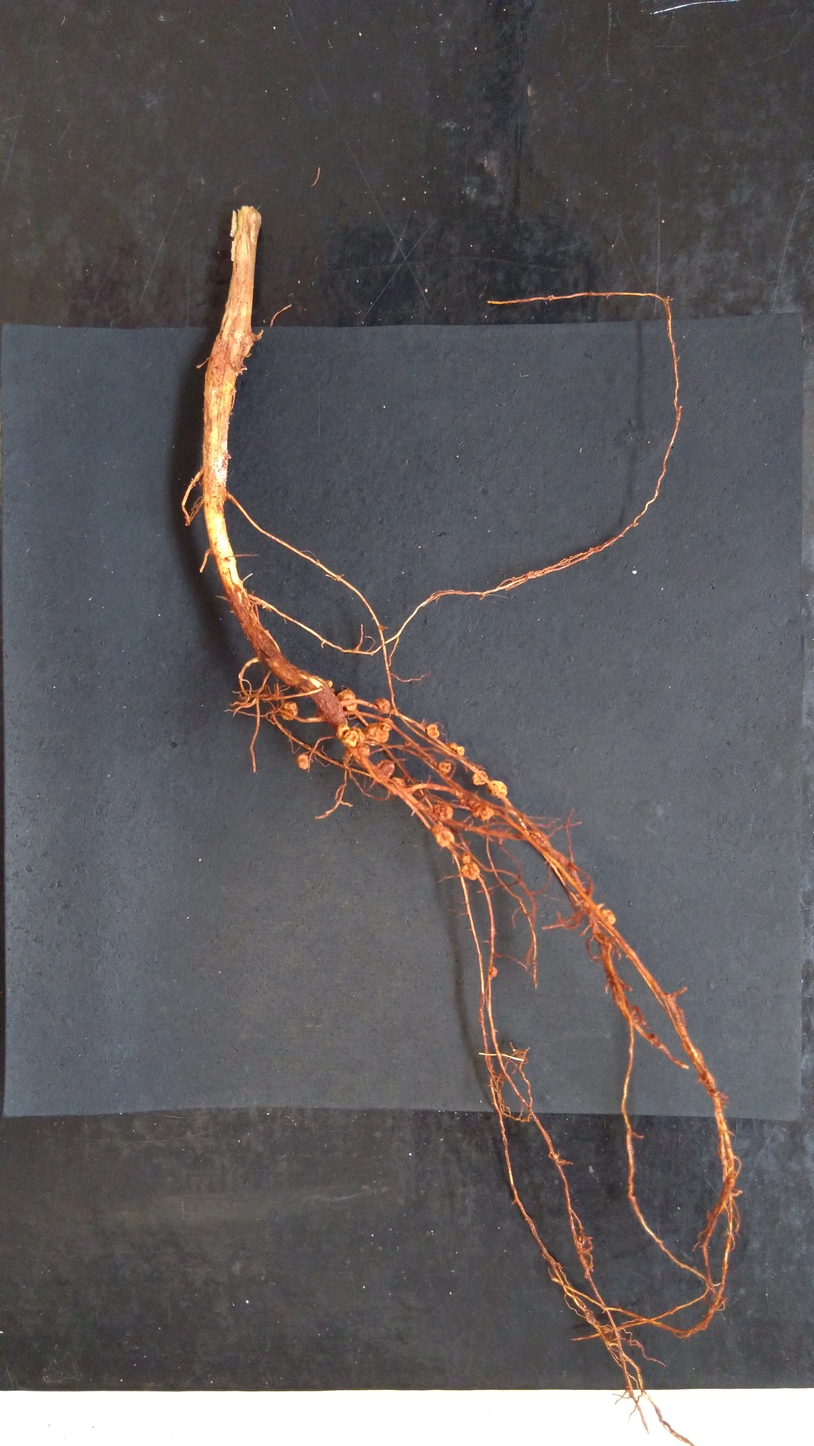nodule: (361, 719, 395, 748), (458, 848, 482, 883), (430, 824, 457, 851), (336, 687, 359, 714), (370, 757, 397, 780), (470, 801, 495, 824), (277, 700, 300, 723), (432, 802, 456, 823), (487, 779, 509, 801), (372, 696, 393, 716), (469, 768, 489, 789), (339, 729, 359, 749), (354, 744, 372, 765), (447, 741, 468, 758), (390, 775, 408, 794), (601, 907, 618, 927), (334, 723, 352, 741), (436, 760, 455, 777), (295, 753, 312, 771), (424, 722, 440, 741), (490, 966, 500, 978)
